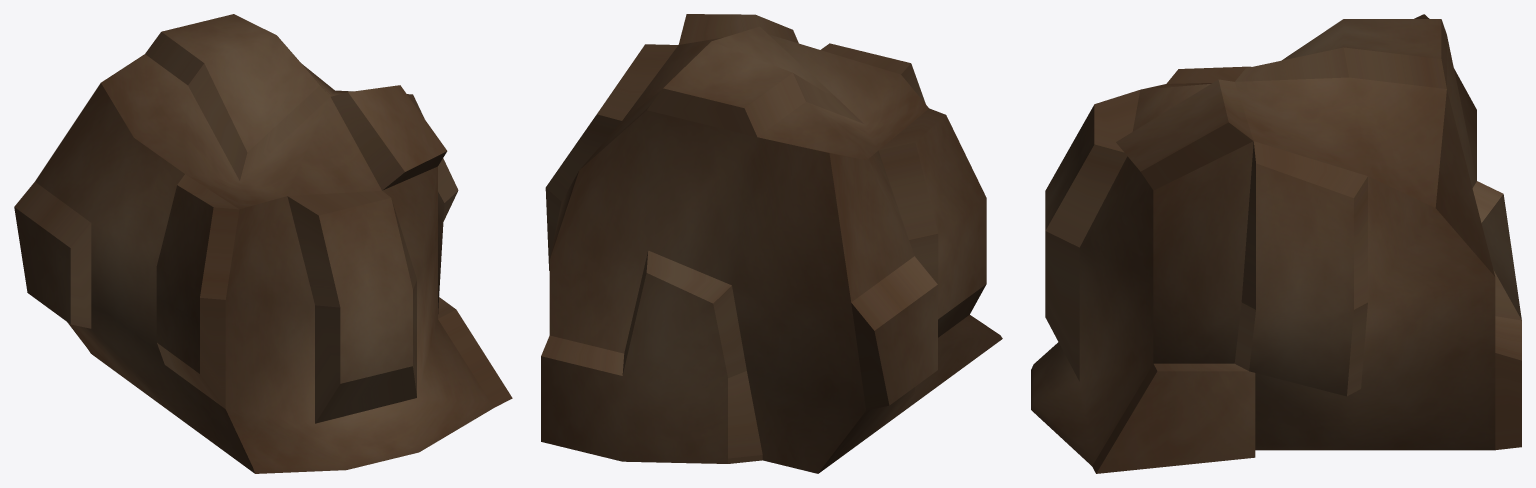
The model's file is aardklont.FBX.
3 views of the same model, side by side, from view 1: azimuth 30°, elevation 25°; view 2: azimuth 150°, elevation 25°; view 3: azimuth 270°, elevation 25° (orthographic). The views are drawn at different scales.
Parts seen in each view (by area): view 1: aardklont; view 2: aardklont; view 3: aardklont.
Part boxes in pixels (bbox=[...]): aardklont: bbox=[14, 14, 512, 473]; aardklont: bbox=[541, 14, 1002, 473]; aardklont: bbox=[1031, 14, 1521, 473].
Bounding box in the file's own units: 30.92 × 27.03 × 33.4.
1 material, 1 textured.
